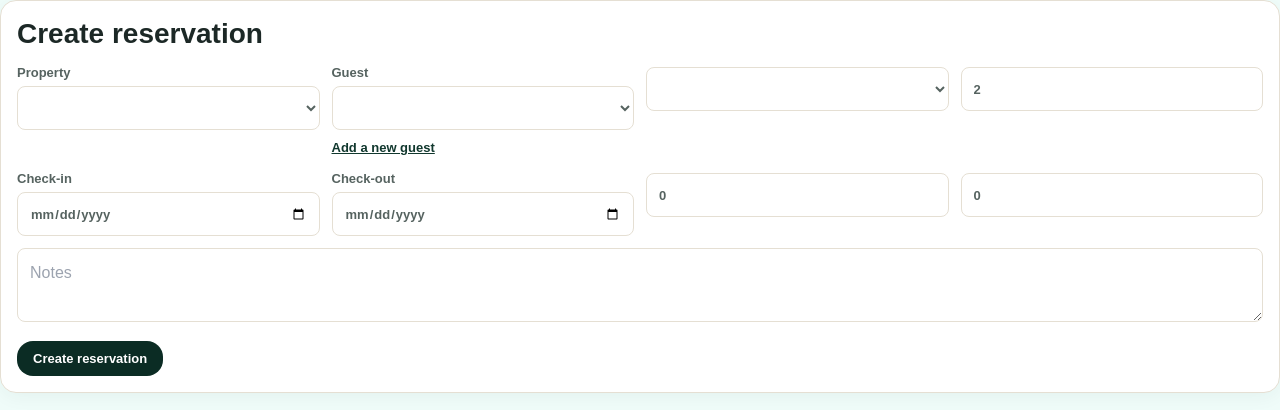
Scenario: manual reservation submission › recovers from network without leaving the form stuck
The width and height of the screenshot is (1280, 410).
Select "Estate · Villa" in the dropdown labelled "Property" at (168, 108), box [17, 86, 320, 130]
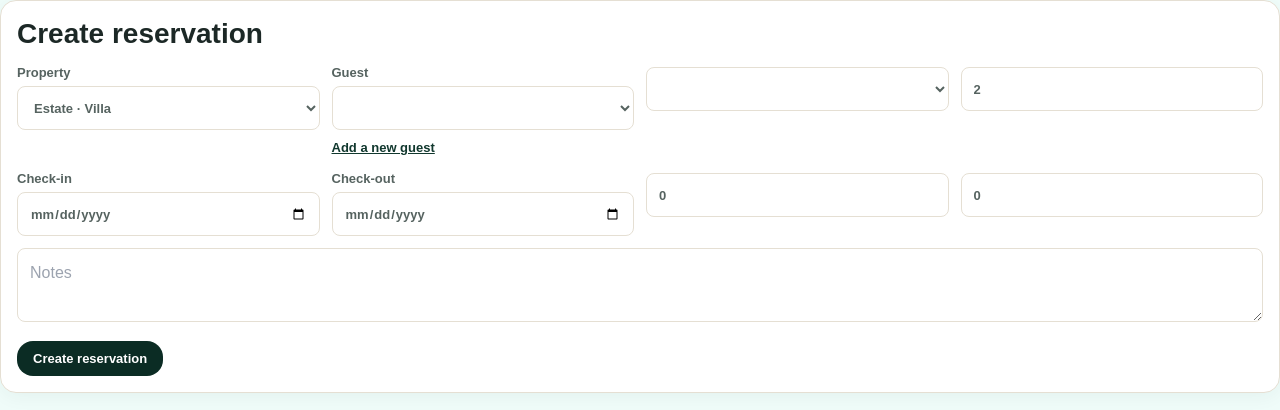
Select "Test Guest" in the dropdown labelled "Guest Add a new guest" at (483, 108), box [332, 86, 634, 130]
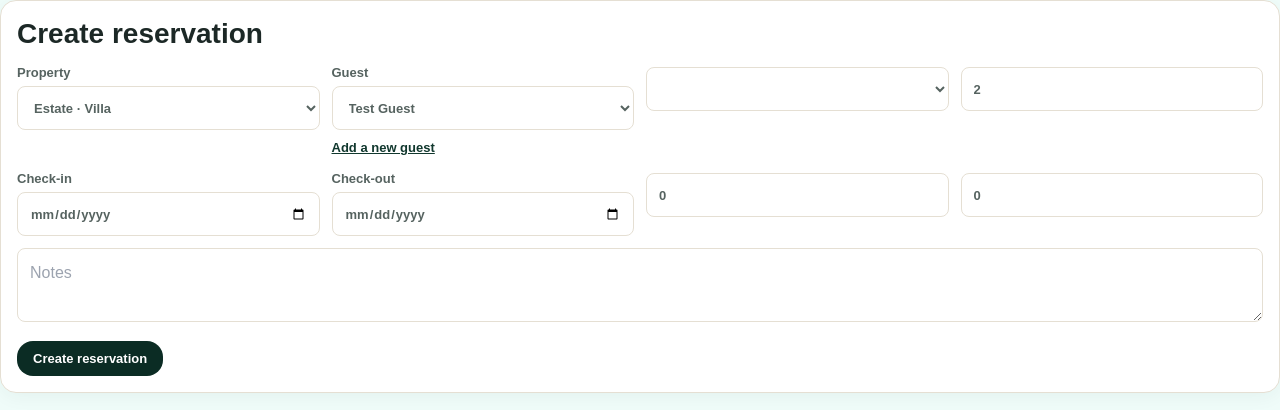
Type "2027-01-10" into the date field labelled "Check-in".
click(168, 214); type("2027-01-10")  # box [17, 192, 320, 236]
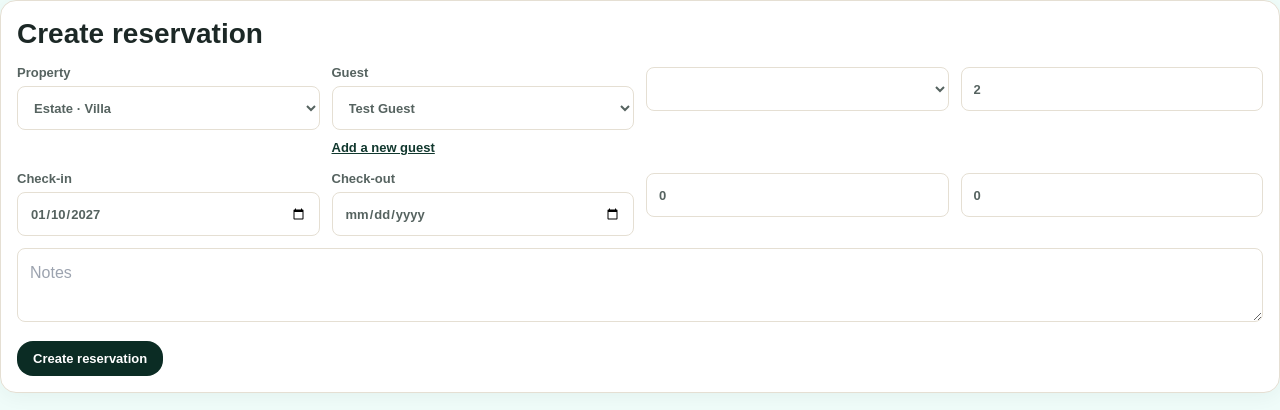
Type "2027-01-13" into the date field labelled "Check-out".
click(483, 214); type("2027-01-13")  # box [332, 192, 634, 236]
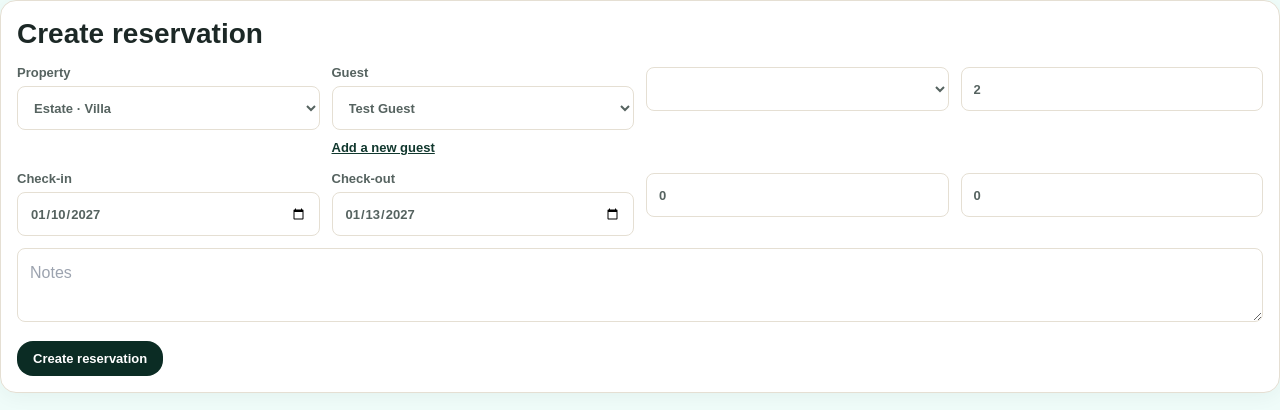
Type "Accepted dates" into the text box with placeholder "Notes".
click(640, 285); type("Accepted dates")  # box [17, 248, 1263, 322]
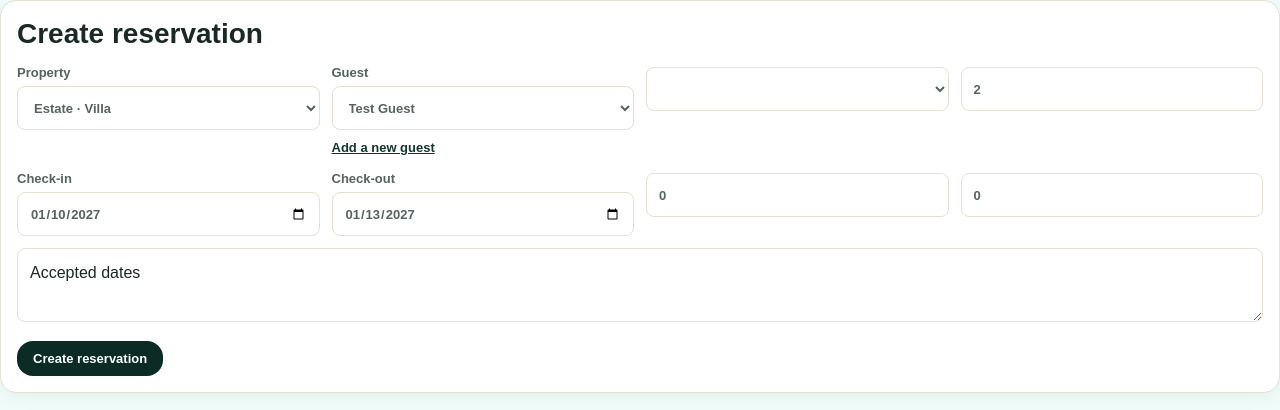
Submit the form
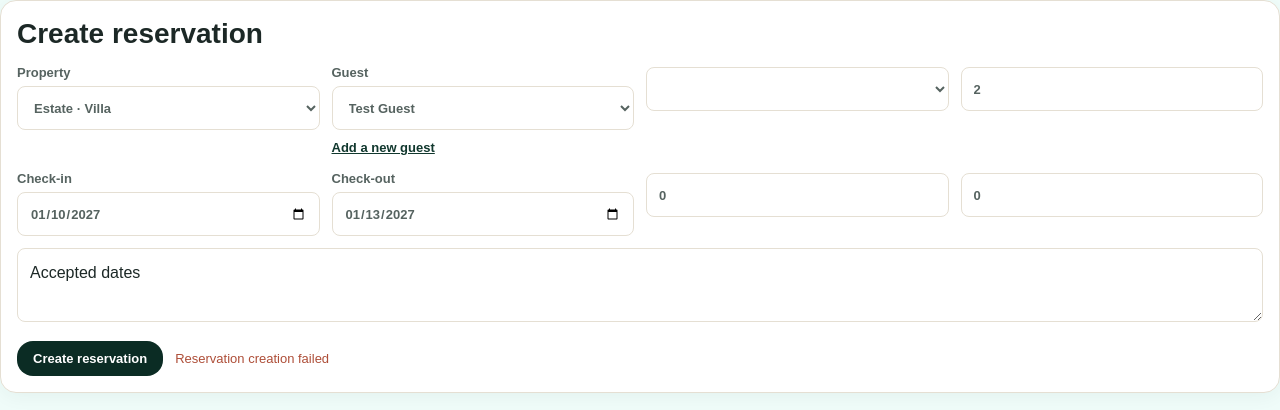
Check: the button "Create reservation" is enabled, box [17, 341, 163, 376]
Check: the message reads "Reservation creation failed", box [175, 351, 329, 366]
